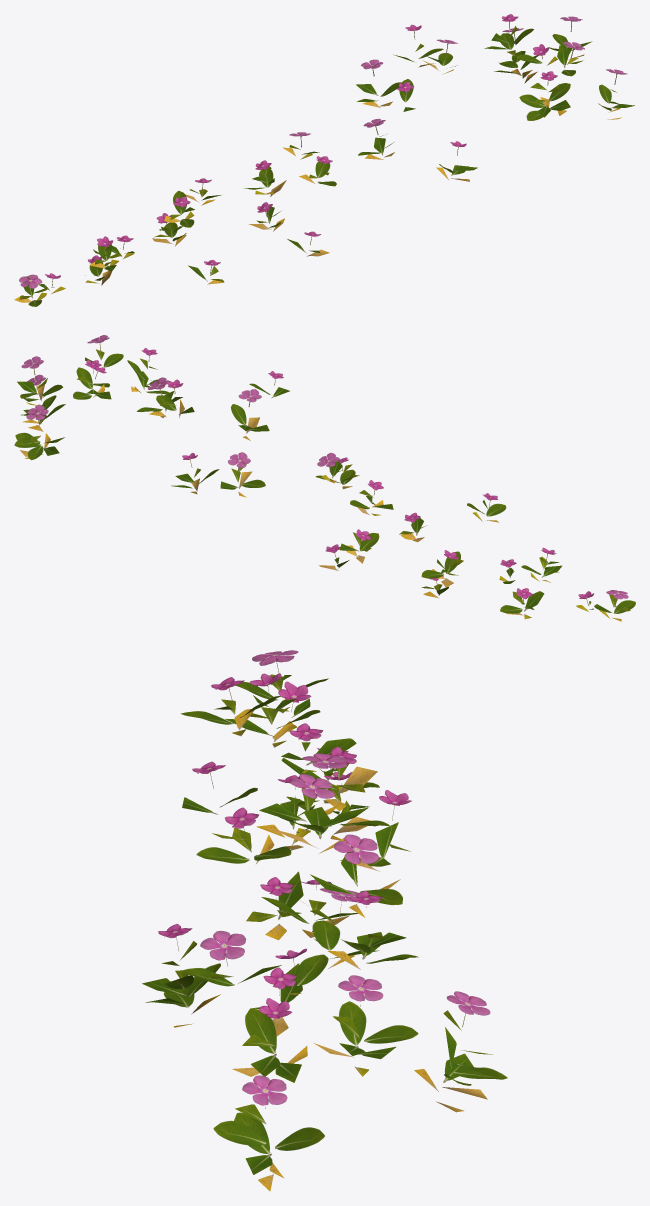
The model's file is periwinkle_plant_lod2.glb.
The picture shows the model from 3 angles, top to bottom: view 1: azimuth 30°, elevation 25°; view 2: azimuth 150°, elevation 25°; view 3: azimuth 270°, elevation 25°; orthographic projection. The views are drawn at different scales.
Visible parts, largest first — view 1: periwinkle_plant_01_LOD0, periwinkle_plant_02_LOD0, periwinkle_plant_03_LOD0, periwinkle_plant_04_LOD0, periwinkle_plant_05_LOD0, periwinkle_plant_06_LOD0; view 2: periwinkle_plant_01_LOD0, periwinkle_plant_02_LOD0, periwinkle_plant_03_LOD0, periwinkle_plant_04_LOD0, periwinkle_plant_05_LOD0, periwinkle_plant_06_LOD0; view 3: periwinkle_plant_01_LOD0, periwinkle_plant_02_LOD0, periwinkle_plant_03_LOD0, periwinkle_plant_04_LOD0, periwinkle_plant_05_LOD0, periwinkle_plant_06_LOD0.
Boxes of the visible parts, box(x1,y1,x2,y2) form: periwinkle_plant_01_LOD0: box(484, 14, 634, 120); periwinkle_plant_02_LOD0: box(356, 24, 477, 181); periwinkle_plant_03_LOD0: box(244, 132, 336, 256); periwinkle_plant_04_LOD0: box(152, 178, 224, 284); periwinkle_plant_05_LOD0: box(85, 235, 134, 285); periwinkle_plant_06_LOD0: box(14, 273, 65, 306); periwinkle_plant_01_LOD0: box(14, 335, 170, 460); periwinkle_plant_02_LOD0: box(137, 371, 289, 497); periwinkle_plant_03_LOD0: box(315, 452, 393, 570); periwinkle_plant_04_LOD0: box(399, 493, 506, 598); periwinkle_plant_05_LOD0: box(499, 547, 561, 619); periwinkle_plant_06_LOD0: box(576, 590, 635, 621); periwinkle_plant_01_LOD0: box(142, 891, 507, 1191); periwinkle_plant_02_LOD0: box(182, 753, 411, 1082); periwinkle_plant_03_LOD0: box(196, 774, 357, 1036); periwinkle_plant_04_LOD0: box(181, 677, 389, 939); periwinkle_plant_05_LOD0: box(225, 673, 379, 803); periwinkle_plant_06_LOD0: box(235, 650, 328, 731).
Size of the model in its own units: 1.24 by 0.3457 by 0.3207.
Materials: 1 (1 with a texture image).
